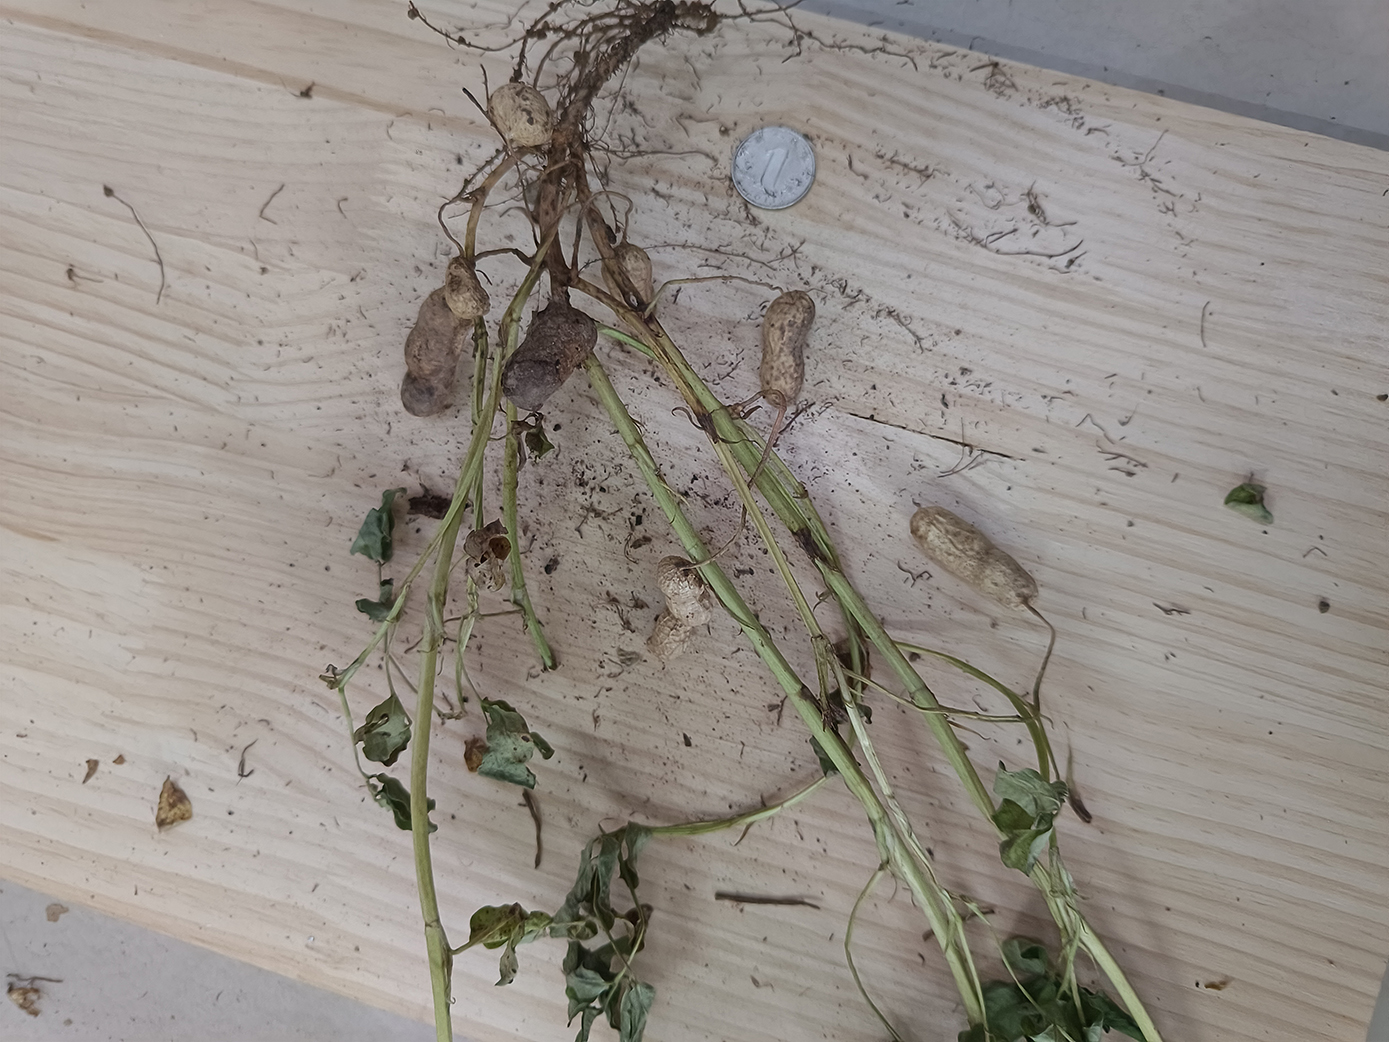h: (908, 505, 1039, 611), (646, 555, 713, 660), (761, 290, 817, 407), (602, 244, 656, 328), (489, 84, 554, 146), (444, 259, 489, 319)
l: (503, 302, 599, 413), (403, 287, 466, 419)
